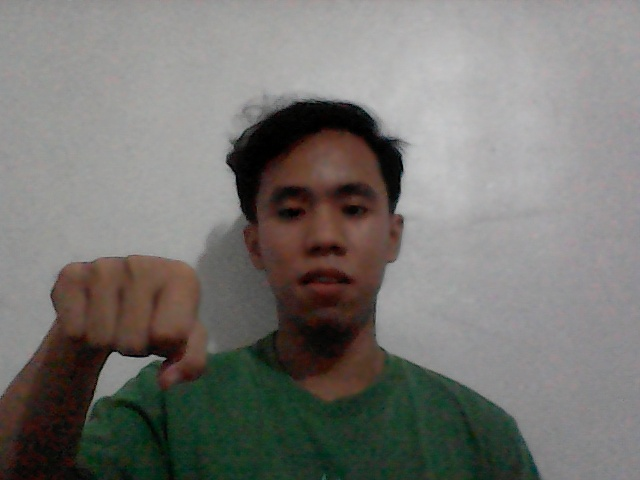Yes: (30, 229, 232, 410)
